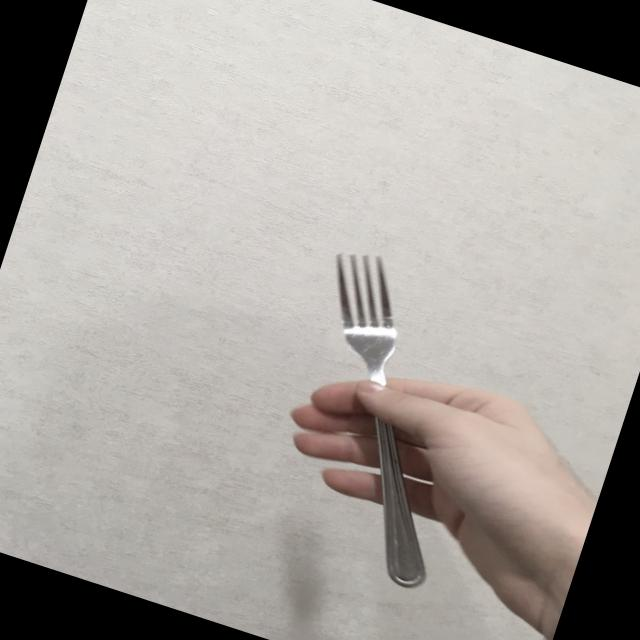fork: (244, 244, 516, 592)
